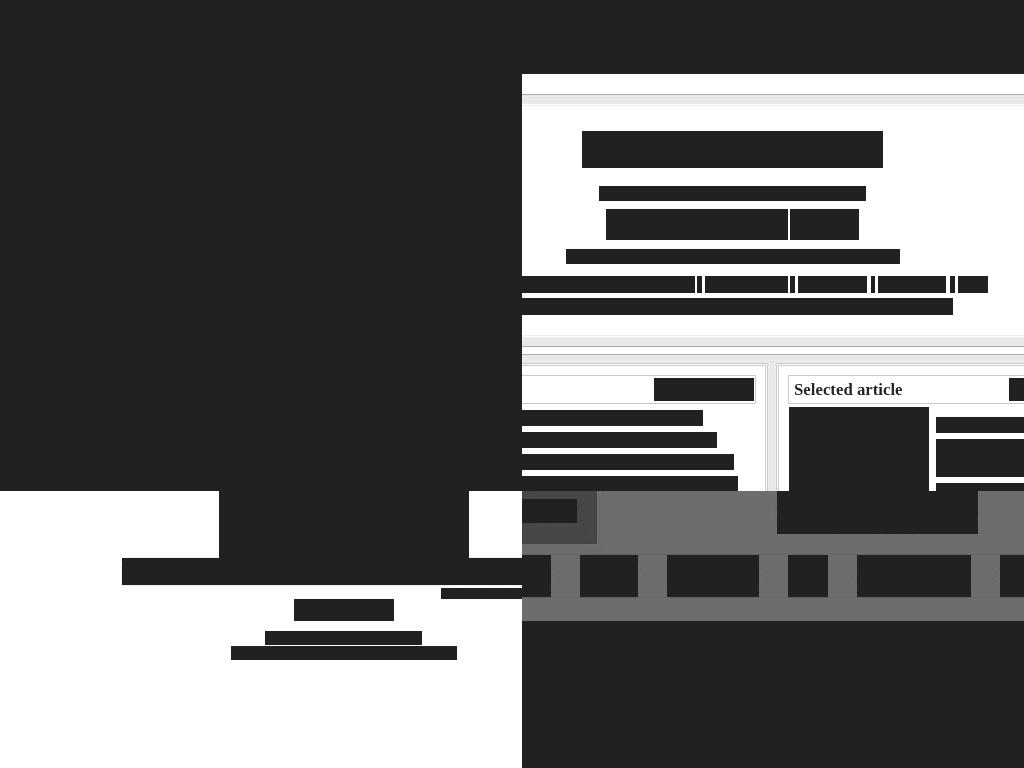button: (522, 621, 1024, 768), (75, 387, 257, 491), (273, 387, 455, 491), (21, 10, 301, 51), (21, 62, 301, 103), (21, 381, 301, 422), (777, 491, 978, 534), (857, 555, 971, 597), (21, 302, 301, 317), (667, 555, 759, 597), (754, 34, 842, 74), (841, 34, 928, 74), (457, 419, 522, 467), (580, 555, 638, 597), (707, 34, 755, 74), (788, 555, 828, 597), (522, 555, 551, 597), (1000, 555, 1024, 597)
field: (122, 558, 522, 585), (21, 190, 301, 226), (21, 261, 301, 297), (606, 209, 788, 240), (935, 42, 1024, 70), (294, 599, 394, 621), (790, 209, 859, 240), (31, 351, 44, 365)
heading: (522, 639, 1024, 700), (582, 131, 754, 168), (752, 131, 883, 168), (794, 379, 903, 399)
iframe: (0, 50, 522, 300)
image: (0, 0, 522, 491), (522, 621, 1024, 768), (522, 0, 1024, 74), (75, 387, 257, 491), (273, 387, 455, 491), (528, 700, 799, 768), (219, 491, 469, 558), (789, 407, 929, 491), (0, 387, 59, 491), (471, 387, 522, 491), (654, 378, 754, 401), (56, 13, 89, 46), (63, 65, 95, 98)
label: (21, 340, 301, 376), (21, 166, 301, 187), (21, 237, 301, 258), (441, 588, 522, 599)
link: (0, 460, 401, 491), (522, 276, 695, 293), (528, 410, 698, 426), (757, 249, 900, 264), (176, 434, 268, 454), (522, 298, 623, 315), (755, 186, 866, 201), (640, 454, 734, 470), (705, 276, 788, 293), (647, 186, 728, 201), (798, 276, 867, 293), (878, 276, 946, 293), (937, 6, 1009, 20), (964, 417, 1024, 433), (630, 249, 676, 264), (958, 276, 988, 293), (906, 6, 928, 20), (216, 0, 240, 8)
text: (0, 394, 394, 482), (622, 298, 953, 315), (209, 326, 319, 367), (335, 326, 436, 367), (94, 326, 193, 367), (52, 126, 270, 143), (88, 19, 256, 41), (936, 439, 1024, 477), (98, 71, 249, 93), (522, 432, 717, 448), (54, 434, 177, 454), (522, 454, 640, 470), (811, 0, 898, 20), (231, 646, 354, 660), (130, 389, 192, 414), (29, 0, 216, 8), (940, 439, 1024, 455), (522, 499, 577, 523), (676, 249, 758, 264), (240, 0, 375, 8), (352, 646, 428, 660), (566, 249, 632, 264), (321, 631, 391, 645), (265, 631, 322, 645), (936, 483, 1024, 491), (936, 417, 964, 433), (390, 631, 422, 645), (727, 186, 756, 201), (427, 646, 457, 660), (620, 186, 647, 201), (599, 186, 621, 201), (697, 276, 702, 293), (790, 276, 795, 293), (950, 276, 955, 293), (698, 410, 703, 426), (936, 439, 941, 455), (871, 276, 875, 293)
